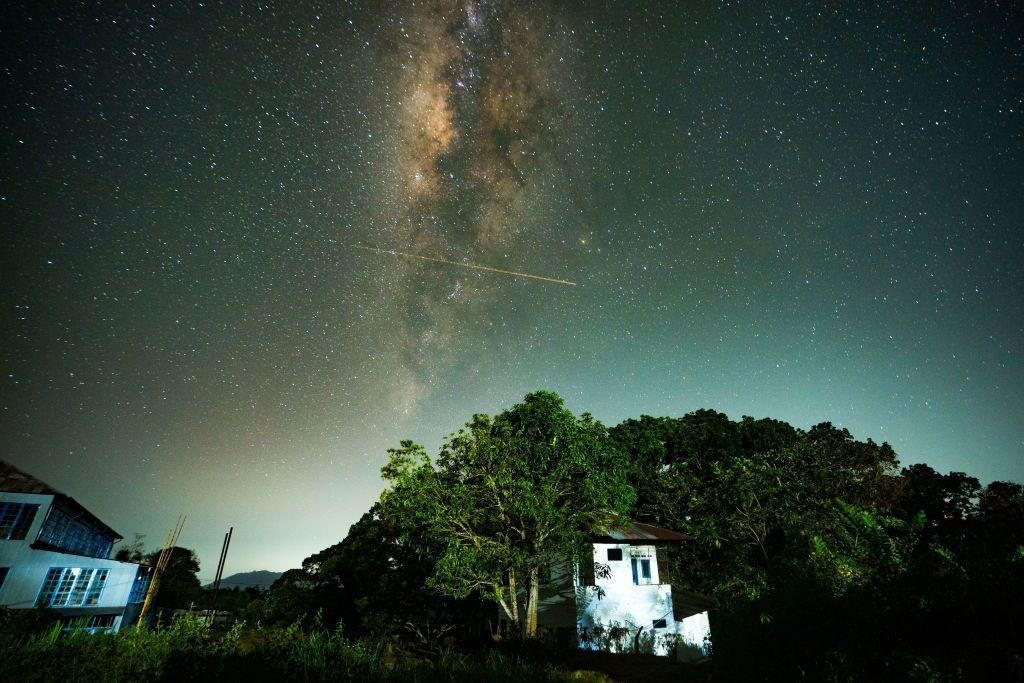meteorite: (449, 259, 588, 292)
